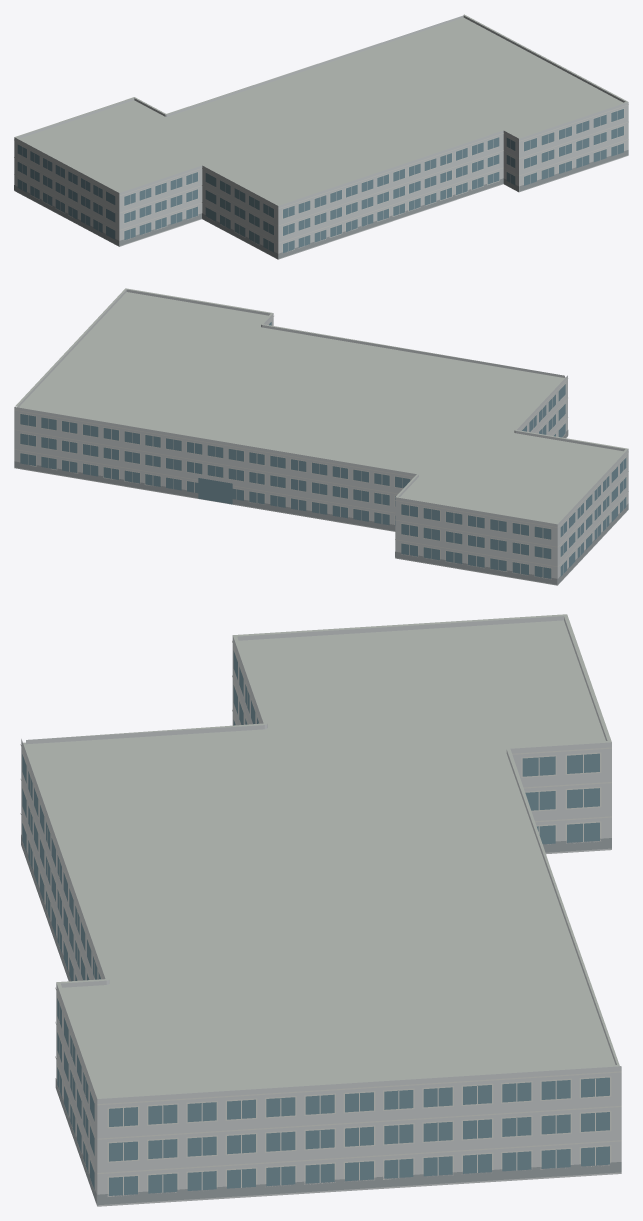
File: public-b35f2787-076b-4e77-aecd-baa461221222.glb
3 renders of one model, top to bottom at view 1: azimuth 30°, elevation 25°; view 2: azimuth 150°, elevation 25°; view 3: azimuth 270°, elevation 25°, orthographic. The views are drawn at different scales.
Visible parts, largest first — view 1: public-b35f2787-076b-4e77-aecd-baa461221222; view 2: public-b35f2787-076b-4e77-aecd-baa461221222; view 3: public-b35f2787-076b-4e77-aecd-baa461221222.
Boxes of the visible parts, <box> form: public-b35f2787-076b-4e77-aecd-baa461221222: <box>14,14,628,259</box>; public-b35f2787-076b-4e77-aecd-baa461221222: <box>14,288,628,585</box>; public-b35f2787-076b-4e77-aecd-baa461221222: <box>20,614,621,1206</box>.
Size of the model in its own units: 88.51 by 9.15 by 46.36.
